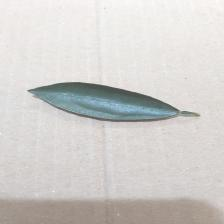healthy: (23, 79, 205, 140)
